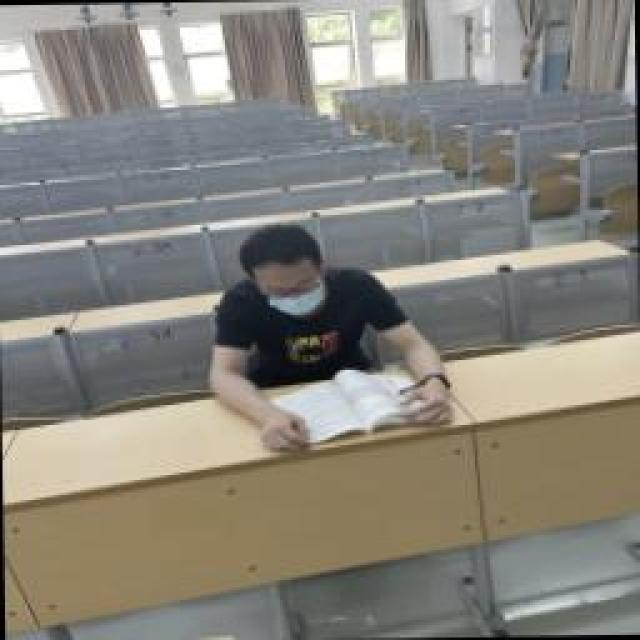study: (205, 223, 457, 455)
